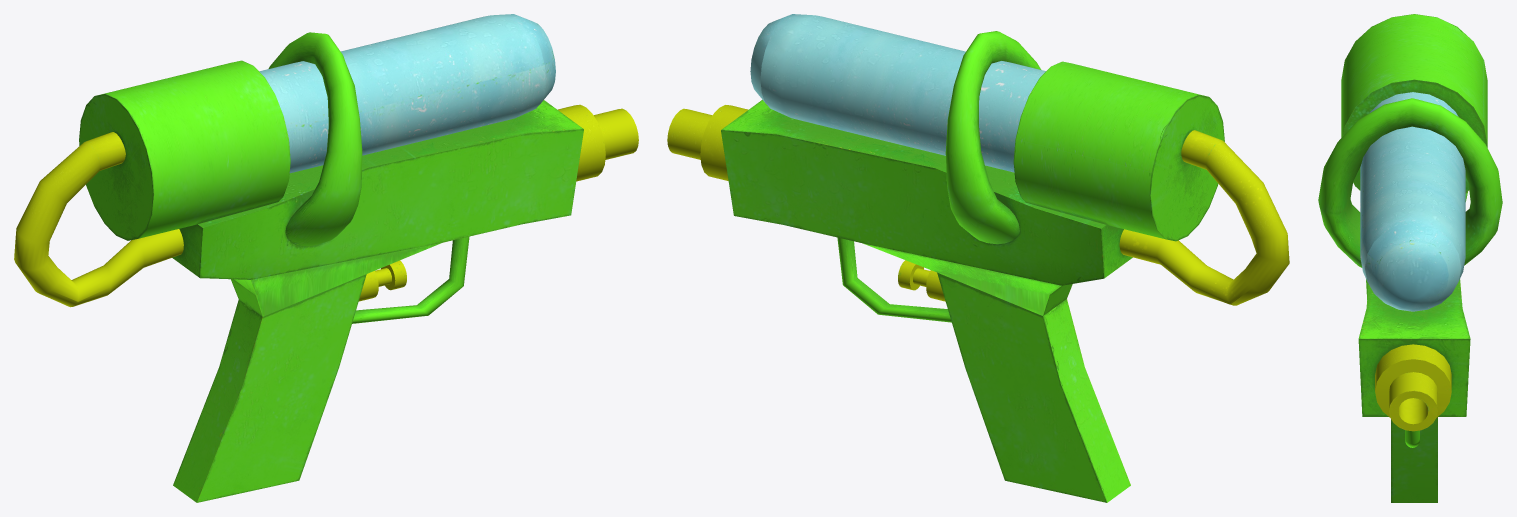
Rendered from water_gun.glb.
3 renders of one model, left to right at view 1: azimuth 30°, elevation 25°; view 2: azimuth 150°, elevation 25°; view 3: azimuth 270°, elevation 25°, orthographic.
Parts seen in each view (by area): view 1: polySurface5; view 2: polySurface5; view 3: polySurface5.
Part boxes in pixels (<box>): polySurface5: <box>14,14,638,502</box>; polySurface5: <box>667,14,1289,502</box>; polySurface5: <box>1318,14,1502,502</box>.
Size of the model in its own units: 544 by 366 by 145.
1 material, 1 textured.
